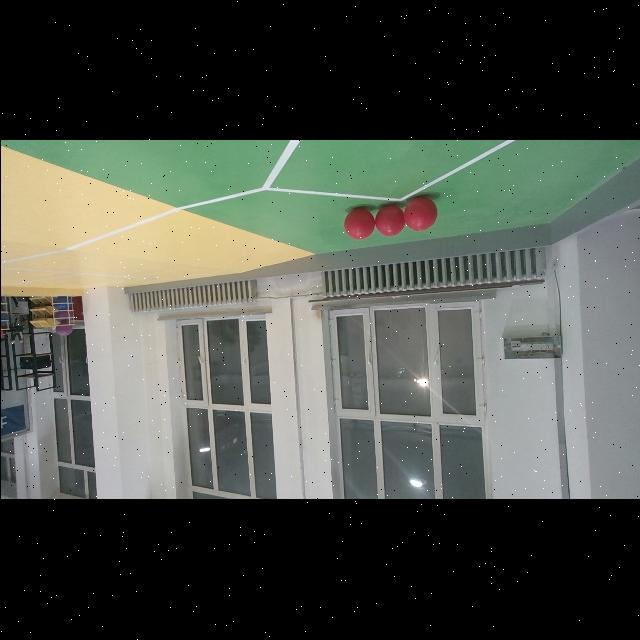R: (404, 196, 438, 232), (344, 208, 374, 240), (375, 205, 405, 237)
